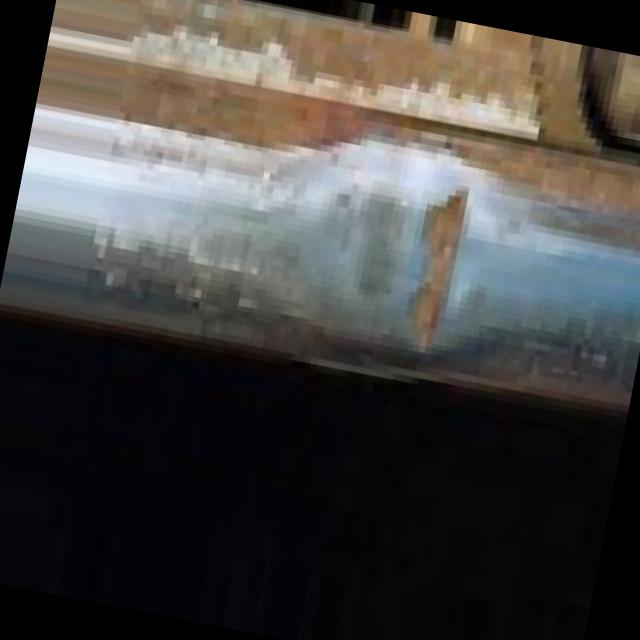defective: (0, 23, 640, 461)
